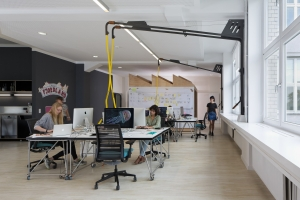chair: (94, 123, 137, 191), (190, 112, 208, 143)
